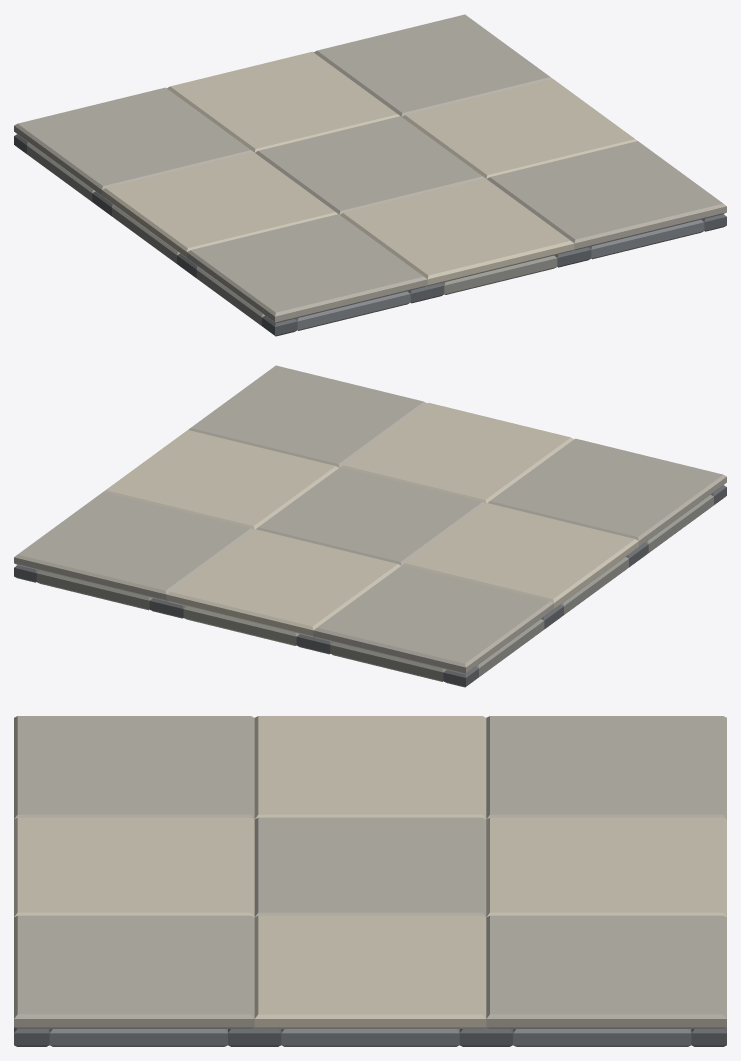
Rendered from SM_LPD_Struct_CeilFlat_01.fbx.
3 renders of one model, top to bottom at view 1: azimuth 30°, elevation 25°; view 2: azimuth 150°, elevation 25°; view 3: azimuth 270°, elevation 25°, orthographic. The views are drawn at different scales.
Visible parts, largest first — view 1: SM_LPD_Struct_CeilFlat_01; view 2: SM_LPD_Struct_CeilFlat_01; view 3: SM_LPD_Struct_CeilFlat_01.
Boxes of the visible parts, <box> form: SM_LPD_Struct_CeilFlat_01: <box>14,14,726,336</box>; SM_LPD_Struct_CeilFlat_01: <box>14,365,726,687</box>; SM_LPD_Struct_CeilFlat_01: <box>14,716,726,1046</box>.
Bounding box in the file's own units: 4 × 0.2 × 4.
